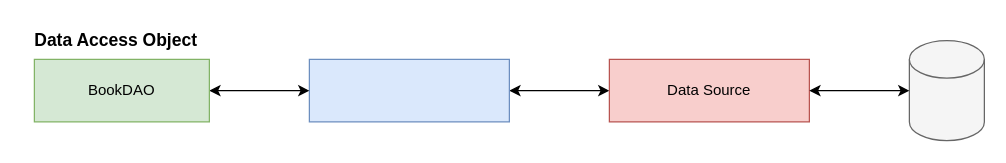
Image size: 1006x163. Some labels were removed from this diagram. The shapes that lost their labels are listed below. From the top down, each one's centre as x and y in pixels, then its label:
(408,90): Entity Manager
(946,90): Database
